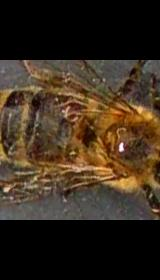varroa_mite: (61, 97, 85, 129)
